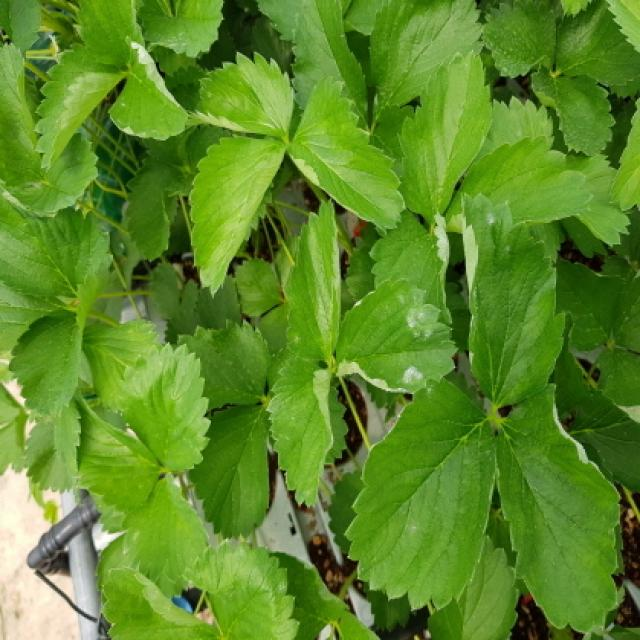Powdery Mildew Leaf: (341, 375, 497, 612), (494, 383, 627, 638), (461, 190, 567, 406), (334, 278, 459, 394), (367, 209, 454, 328), (283, 197, 342, 366), (108, 35, 189, 141)
